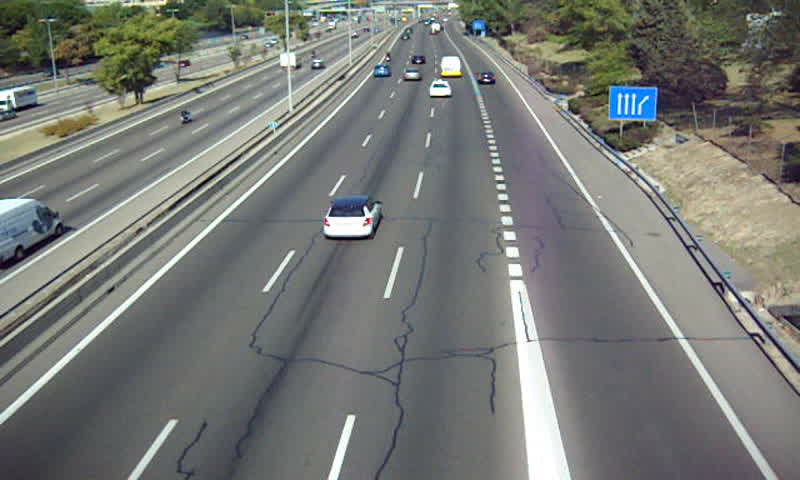car: (323, 195, 381, 238), (428, 81, 453, 98), (400, 68, 422, 82), (475, 72, 496, 85), (371, 65, 390, 79)
van: (439, 56, 462, 77)
